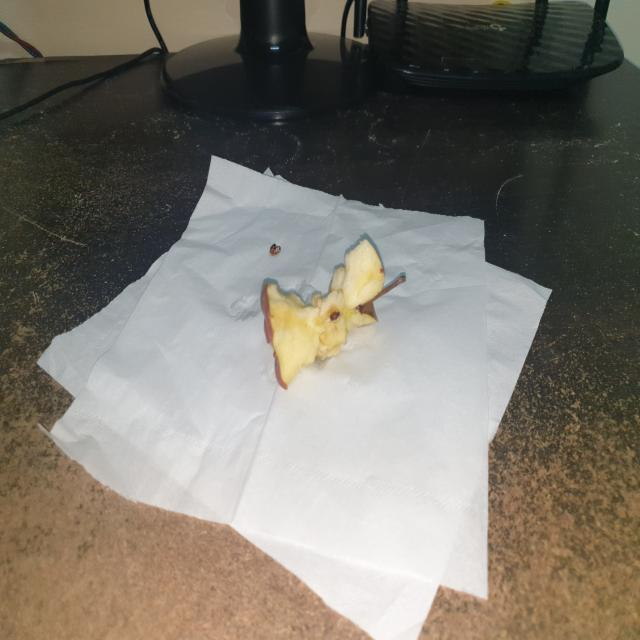apple: (250, 226, 407, 388)
